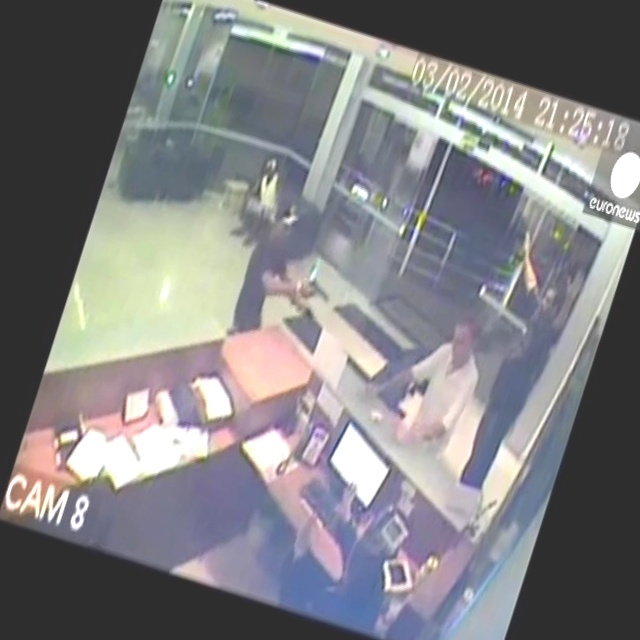gun: (299, 274, 337, 309)
